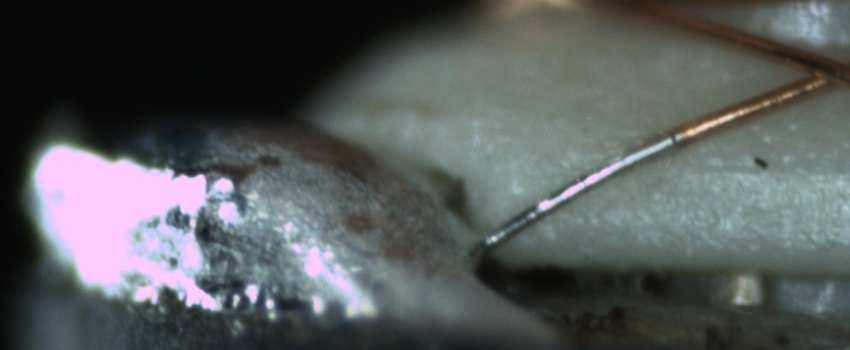CL: (779, 45, 847, 98)
DL: (675, 141, 849, 199)
TS: (476, 132, 682, 250)
